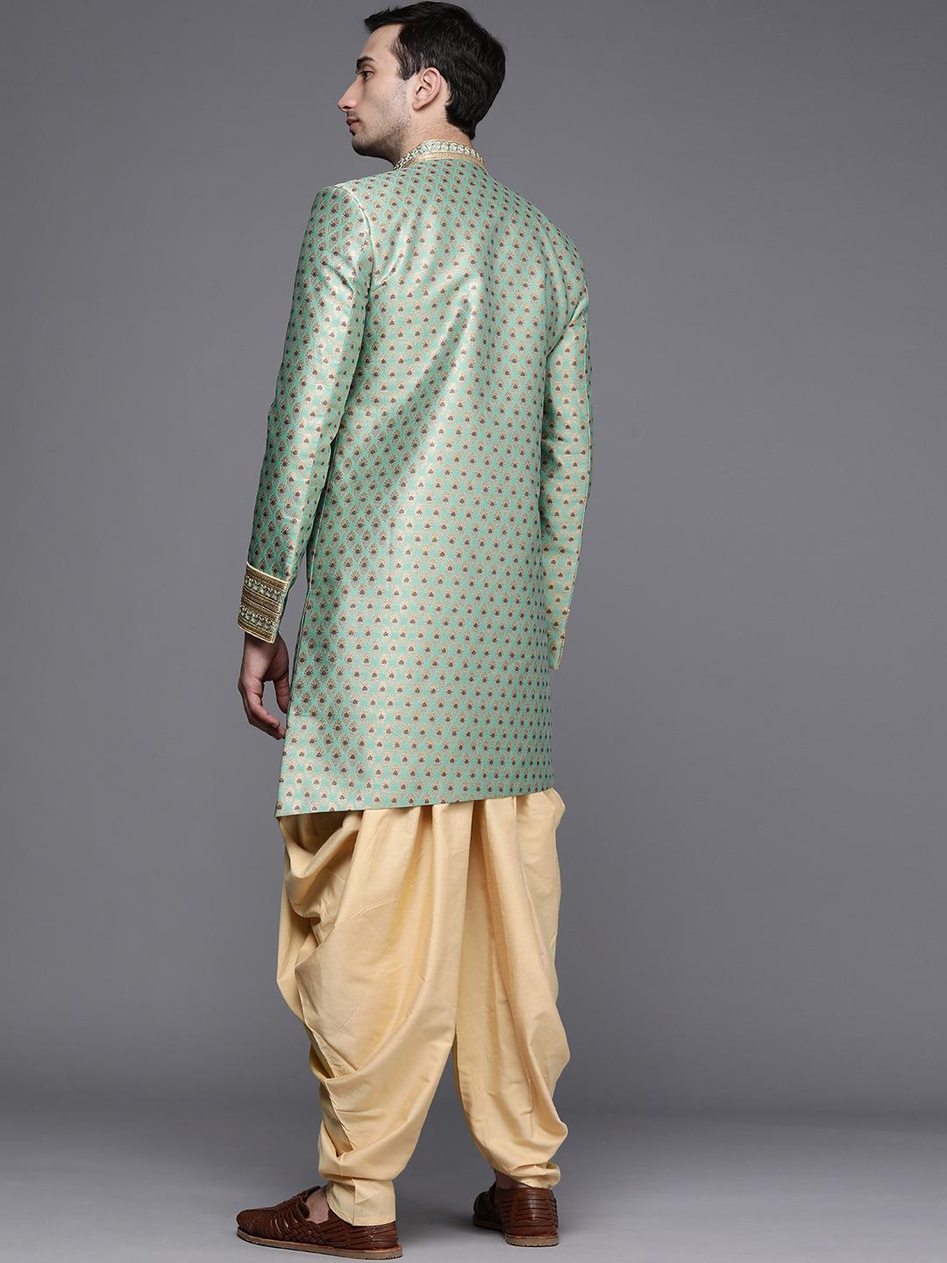Design Sherwani: (232, 138, 597, 819)
